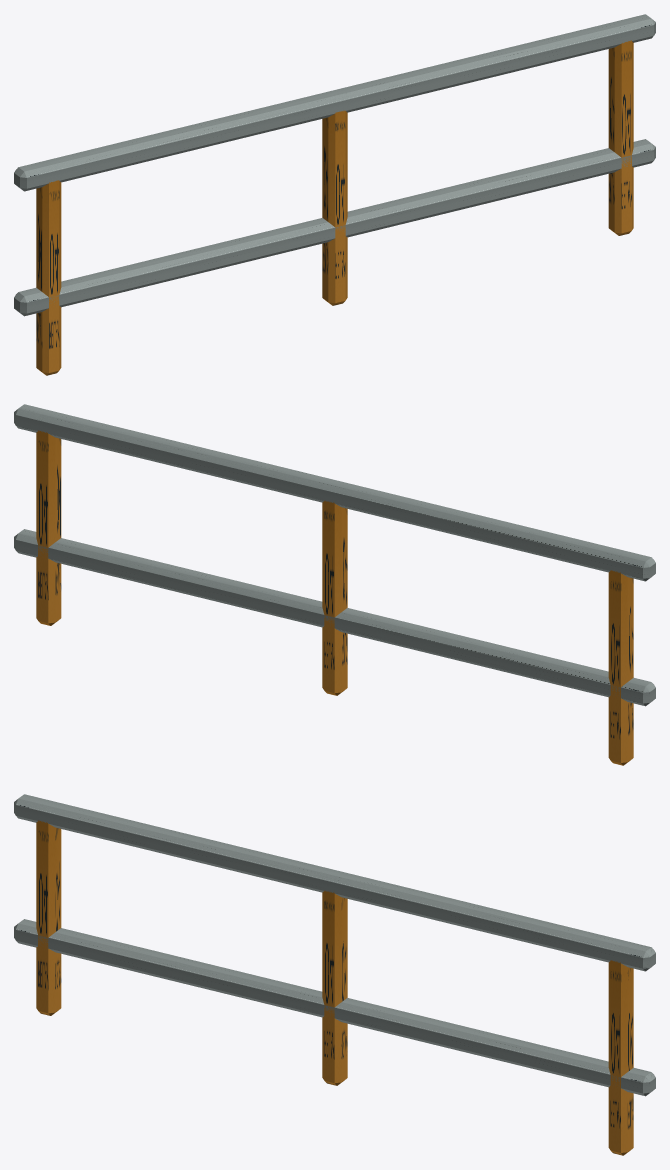
Rendered from railing_4m_LOD1.obj.
The picture shows the model from 3 angles, top to bottom: view 1: azimuth 30°, elevation 25°; view 2: azimuth 150°, elevation 25°; view 3: azimuth 330°, elevation 25°; orthographic projection.
Parts seen in each view (by area): view 1: L02_railing_4m_LOD1; view 2: L02_railing_4m_LOD1; view 3: L02_railing_4m_LOD1.
Part boxes in pixels (x1,y1,x2,y2): L02_railing_4m_LOD1: (14,14,655,375); L02_railing_4m_LOD1: (14,404,655,765); L02_railing_4m_LOD1: (14,794,655,1155).
Size of the model in its own units: 4 by 1.26 by 0.12.
Materials: 1 (1 with a texture image).
